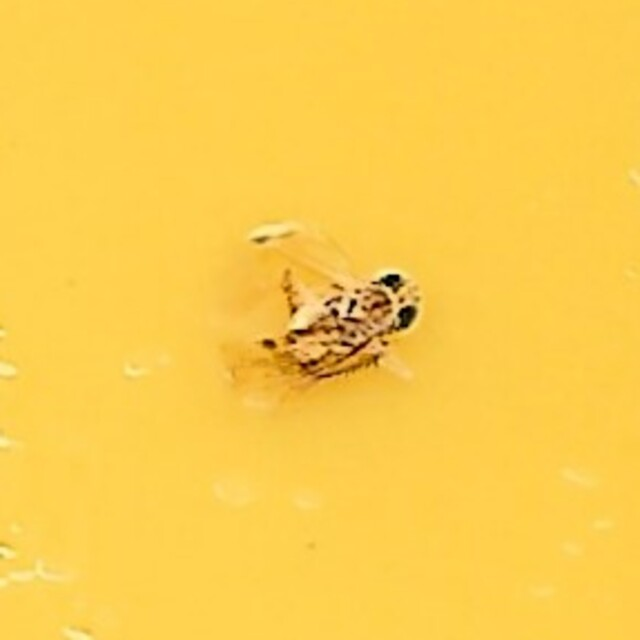Hemiptera: (223, 239, 417, 401)
